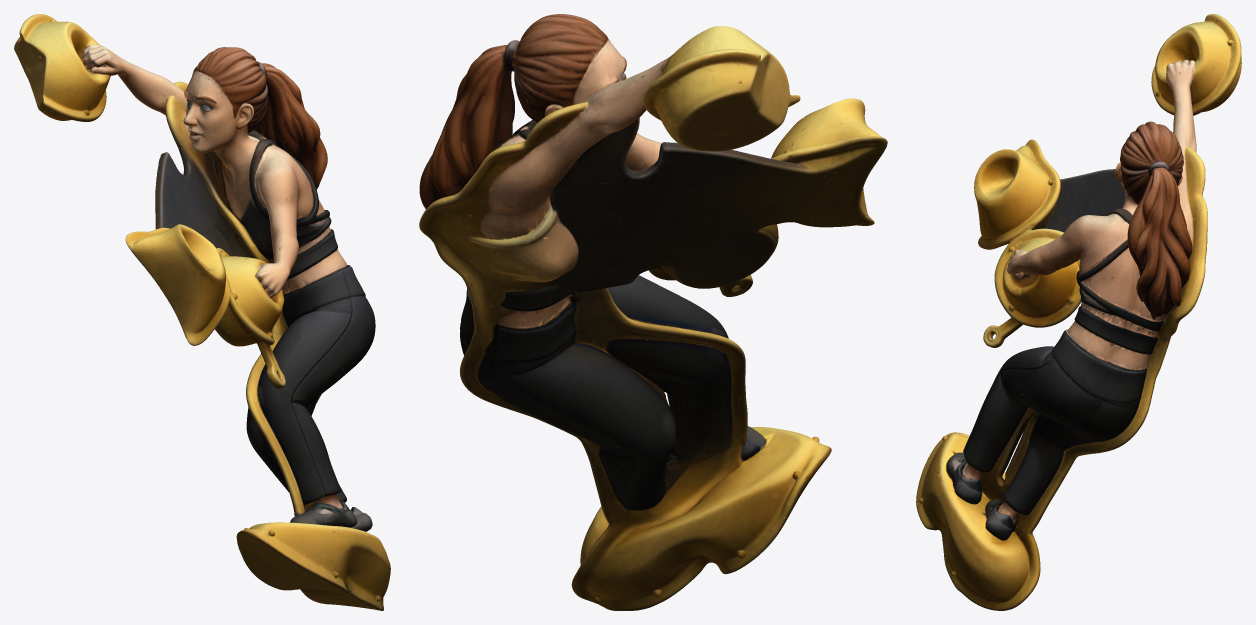
The model's file is single_web.glb.
3 views of the same model, side by side, from view 1: azimuth 30°, elevation 25°; view 2: azimuth 150°, elevation 25°; view 3: azimuth 270°, elevation 25° (orthographic). The views are drawn at different scales.
Visible parts, largest first — view 1: tripo_node_9421f119-a019-45ba-a748-f6c61973e297; view 2: tripo_node_9421f119-a019-45ba-a748-f6c61973e297; view 3: tripo_node_9421f119-a019-45ba-a748-f6c61973e297.
Boxes of the visible parts, x1,y1,x2,y2 form: tripo_node_9421f119-a019-45ba-a748-f6c61973e297: (14,14,390,610); tripo_node_9421f119-a019-45ba-a748-f6c61973e297: (419,14,887,610); tripo_node_9421f119-a019-45ba-a748-f6c61973e297: (916,14,1241,610).
Bounding box in the file's own units: 0.5212 × 0.979 × 0.5813.
Materials: 1 (1 with a texture image).
